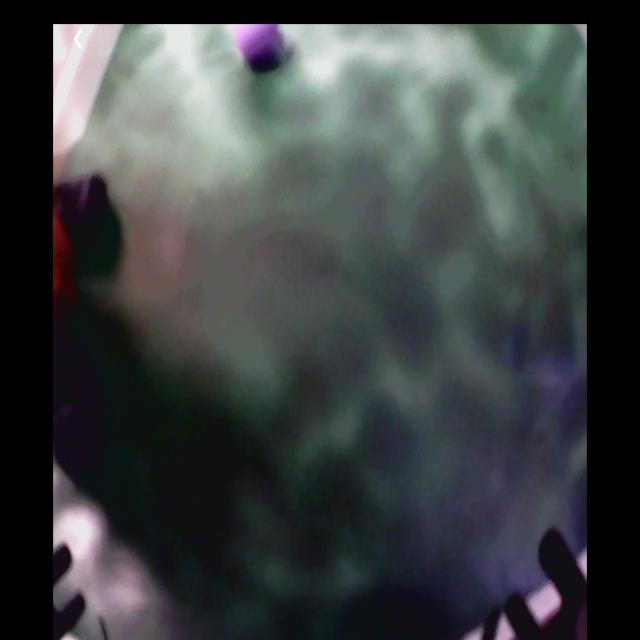ball: (235, 26, 281, 67)
